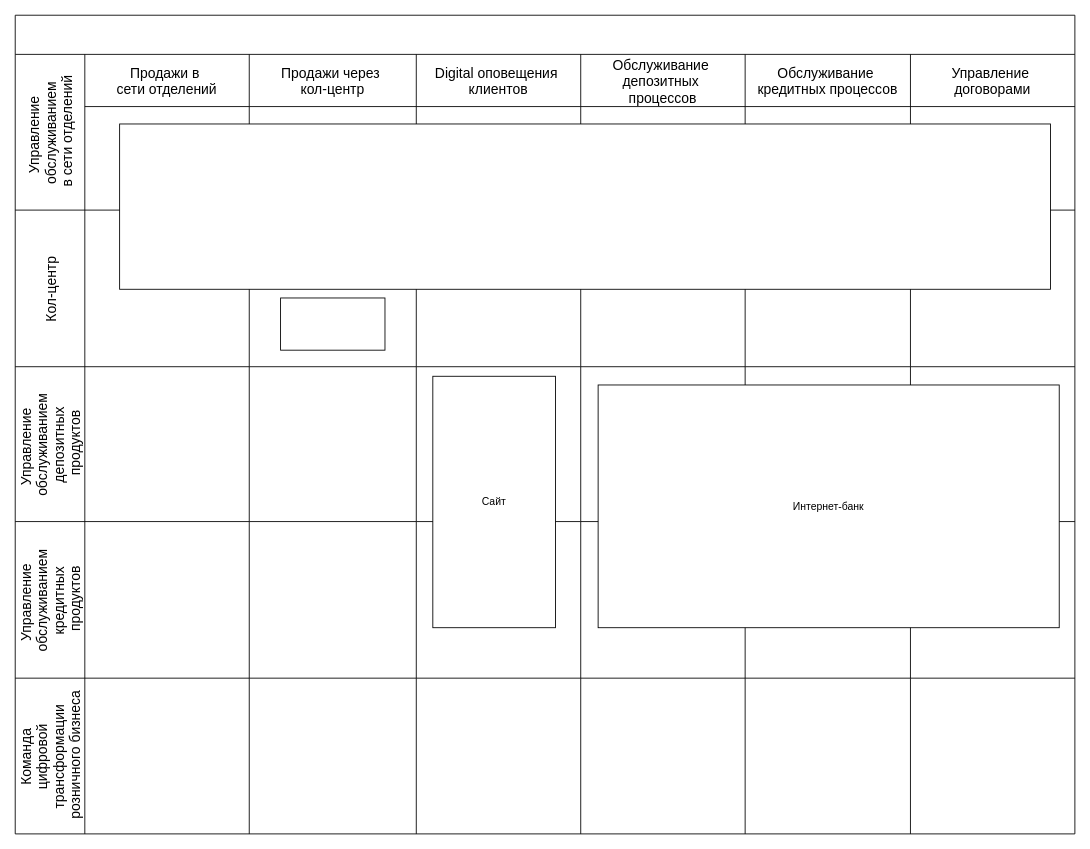
Some shapes in this 1090 by 849 pixel diagram are drawn without their labels. The centre of each missing label's shape, as x and y in pixels:
"АБС" goes at (585,206).
"Система кол-центра" goes at (332,323).
